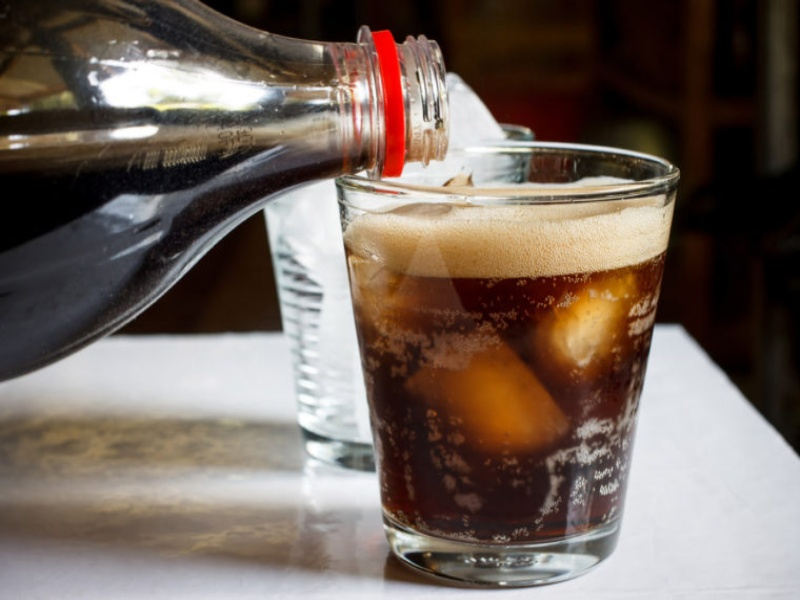Plastic bottle: (8, 10, 500, 377)
